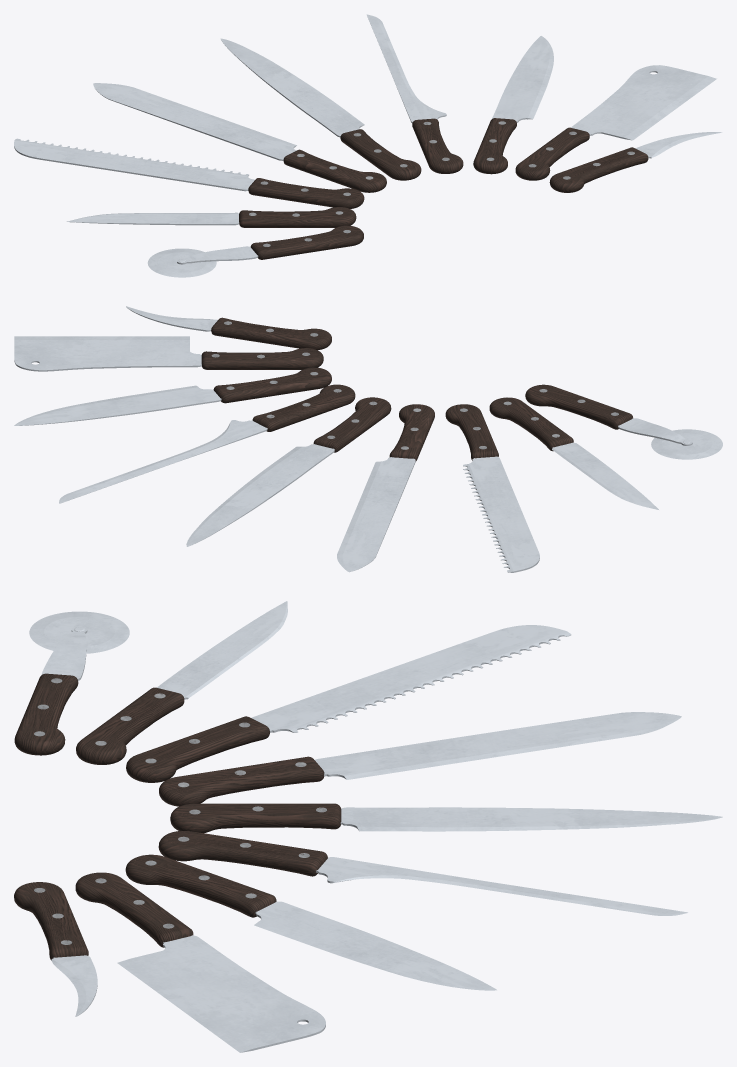
3 views of the same model, one above another, from view 1: azimuth 30°, elevation 25°; view 2: azimuth 150°, elevation 25°; view 3: azimuth 270°, elevation 25° (orthographic). The views are drawn at different scales.
Visible parts, largest first — view 1: knife 9, knife 8, knife 6, knife 5, knife 4, knife 1, knife 3, knife 7, knife 2; view 2: knife 9, knife 6, knife 8, knife 4, knife 5, knife 1, knife 7, knife 3, knife 2; view 3: knife 9, knife 6, knife 8, knife 5, knife 4, knife 7, knife 1, knife 3, knife 2.
Boxes of the visible parts, x1,y1,x2,y2 form: knife 9: (515, 65, 716, 180); knife 8: (14, 138, 364, 208); knife 6: (93, 83, 386, 192); knife 5: (220, 38, 421, 180); knife 4: (473, 36, 553, 174); knife 1: (147, 225, 363, 277); knife 3: (67, 207, 356, 227); knife 7: (366, 14, 463, 173); knife 2: (549, 132, 722, 192); knife 9: (14, 336, 323, 371); knife 6: (337, 404, 434, 572); knife 8: (445, 404, 539, 572); knife 4: (14, 367, 331, 425); knife 5: (186, 397, 391, 546); knife 1: (525, 384, 722, 459); knife 7: (59, 384, 355, 503); knife 3: (489, 397, 658, 509); knife 2: (126, 306, 331, 350); knife 9: (75, 872, 325, 1052); knife 6: (159, 712, 681, 806); knife 8: (126, 625, 571, 782); knife 5: (170, 803, 722, 833); knife 4: (125, 854, 496, 990); knife 7: (158, 831, 687, 915); knife 1: (14, 611, 129, 755); knife 3: (76, 601, 287, 764); knife 2: (14, 882, 97, 1016).
Size of the model in its own units: 1.51 by 0.0212 by 0.9993.
Materials: 3 (3 with a texture image).
